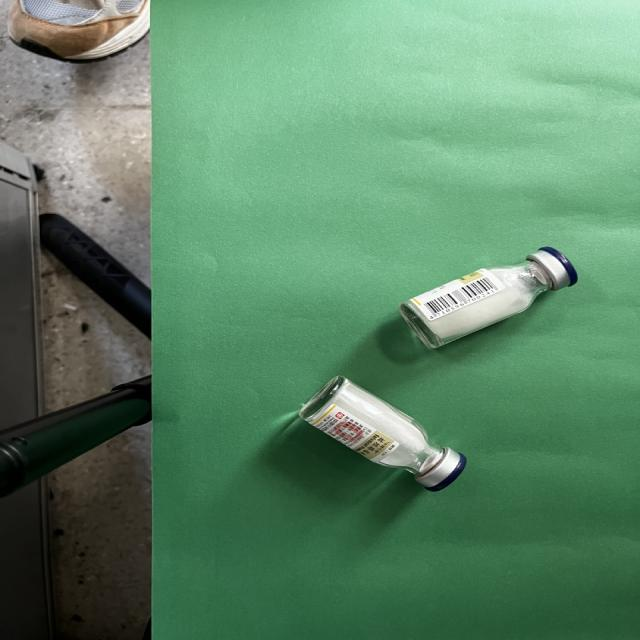Vials: (299, 376, 467, 493), (399, 247, 578, 350)
